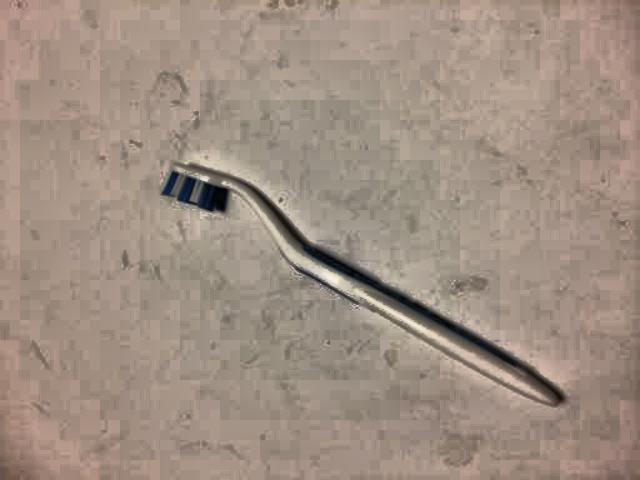Plastic: (158, 156, 569, 418)
